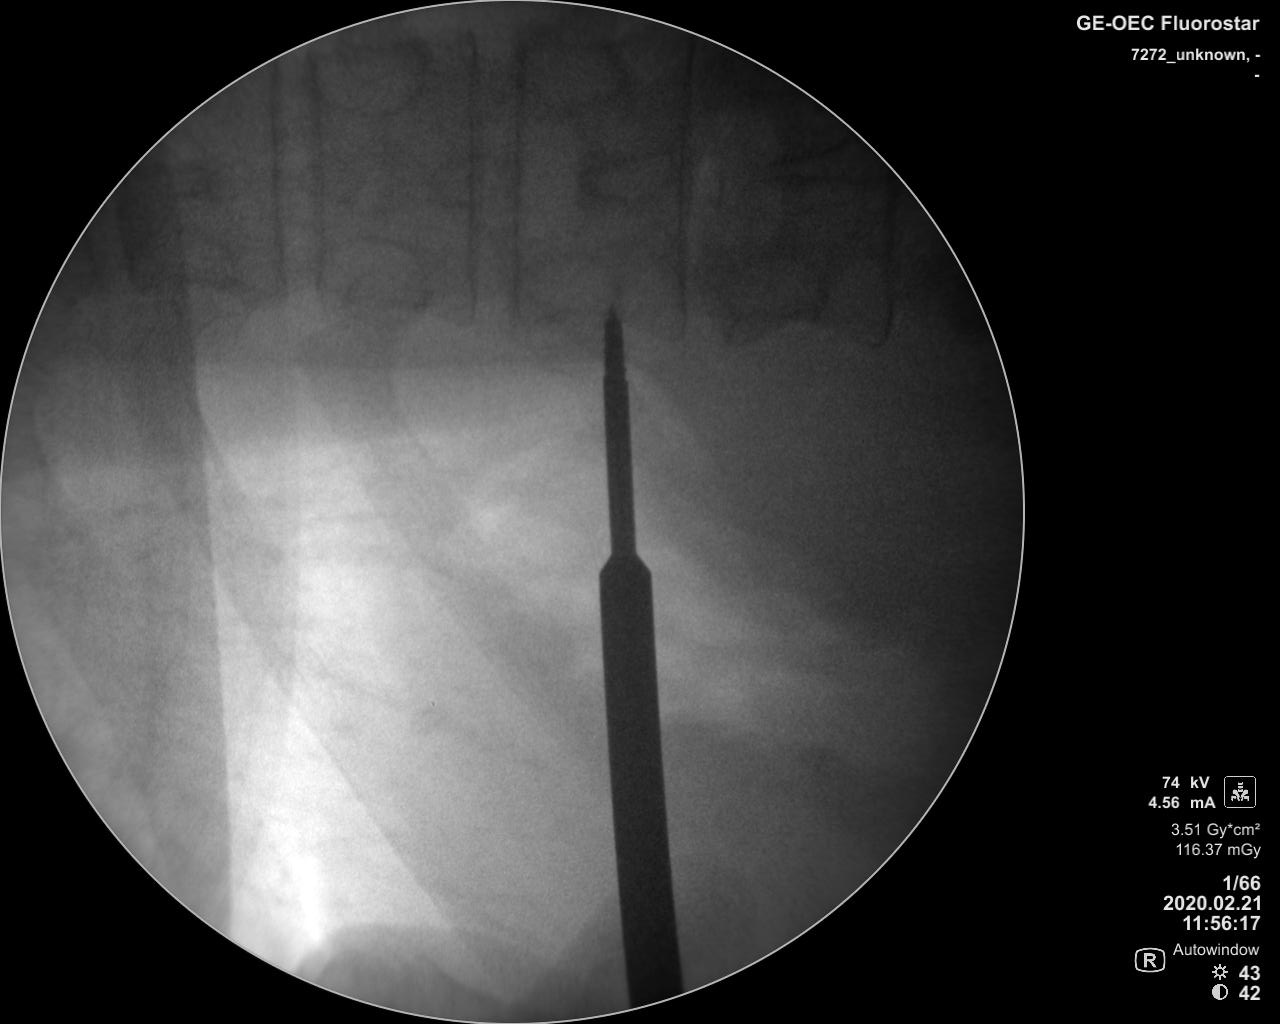eyes: (311, 232, 436, 325), (718, 252, 830, 346), (307, 36, 428, 122), (513, 26, 626, 109), (519, 239, 632, 317)
line: (499, 9, 534, 343), (450, 14, 484, 340), (674, 38, 704, 349), (256, 63, 288, 328), (863, 180, 900, 356)
nose: (565, 144, 686, 206), (415, 150, 537, 208), (741, 137, 867, 188)
